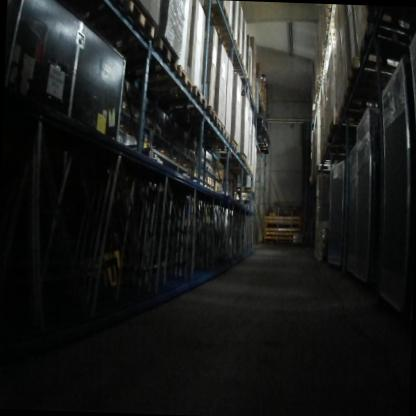pallet: (358, 20, 408, 75), (121, 36, 179, 72), (346, 55, 395, 93), (142, 64, 194, 96), (157, 84, 207, 112), (123, 0, 156, 41), (341, 84, 384, 110), (337, 104, 366, 125), (204, 3, 230, 25), (214, 20, 235, 41), (218, 41, 241, 57), (215, 151, 246, 162), (211, 140, 237, 151), (233, 65, 249, 80), (206, 106, 219, 124), (229, 54, 244, 67), (216, 119, 225, 134), (223, 128, 231, 144), (245, 157, 249, 168), (247, 164, 251, 171)
